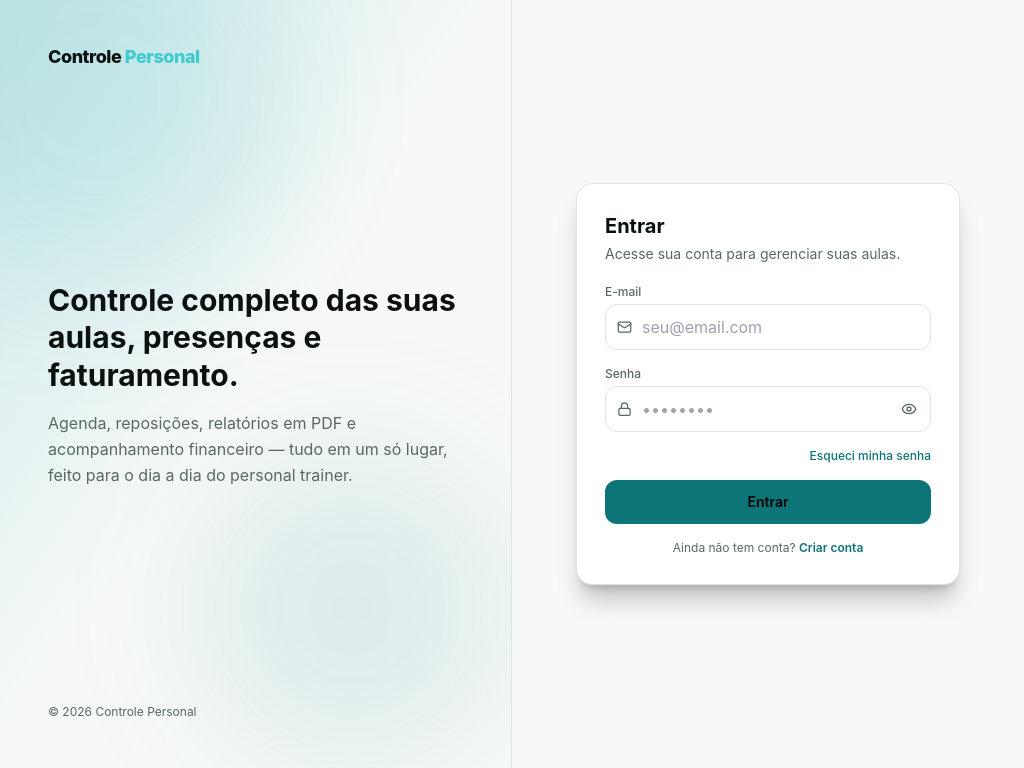
Test case: AuthView — login › exibe a mensagem traduzida por traduzErroAuth quando signInWithPassword retorna erro
Type "rodrigo@example.com" into the field labelled "E-mail" at [768, 327], box [605,304,931,350]
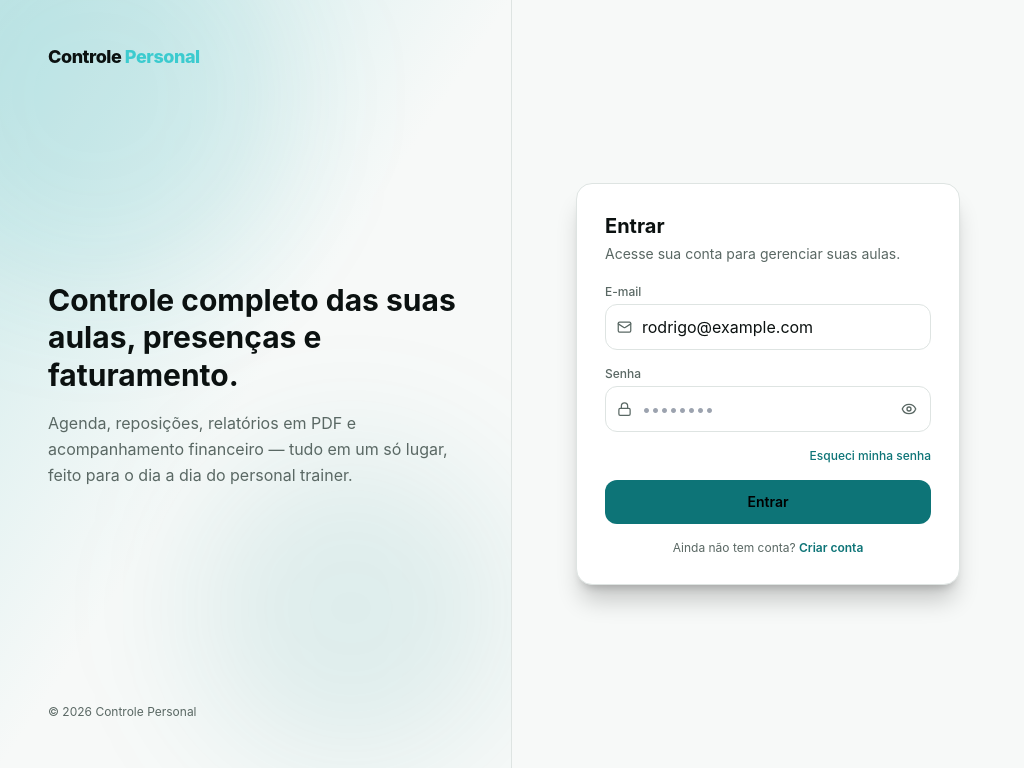
Type "senha123" into the password field labelled "Senha" at [768, 409], box [605,386,931,432]
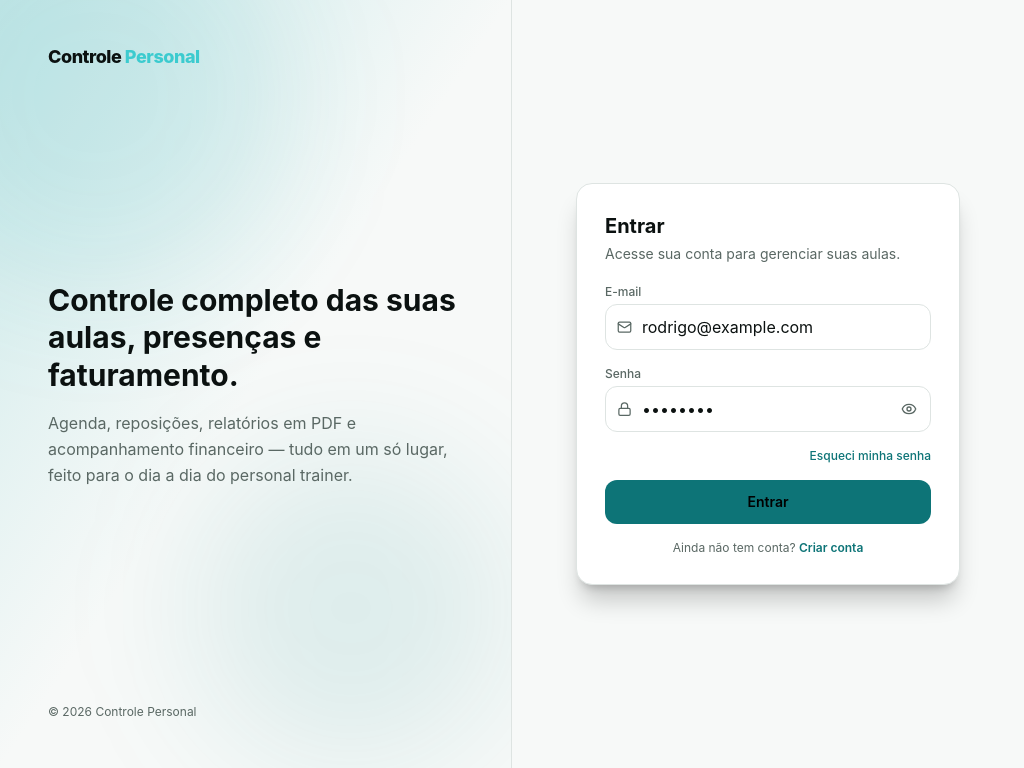
Click the button "Entrar" at [768, 502], box [605,480,931,524]
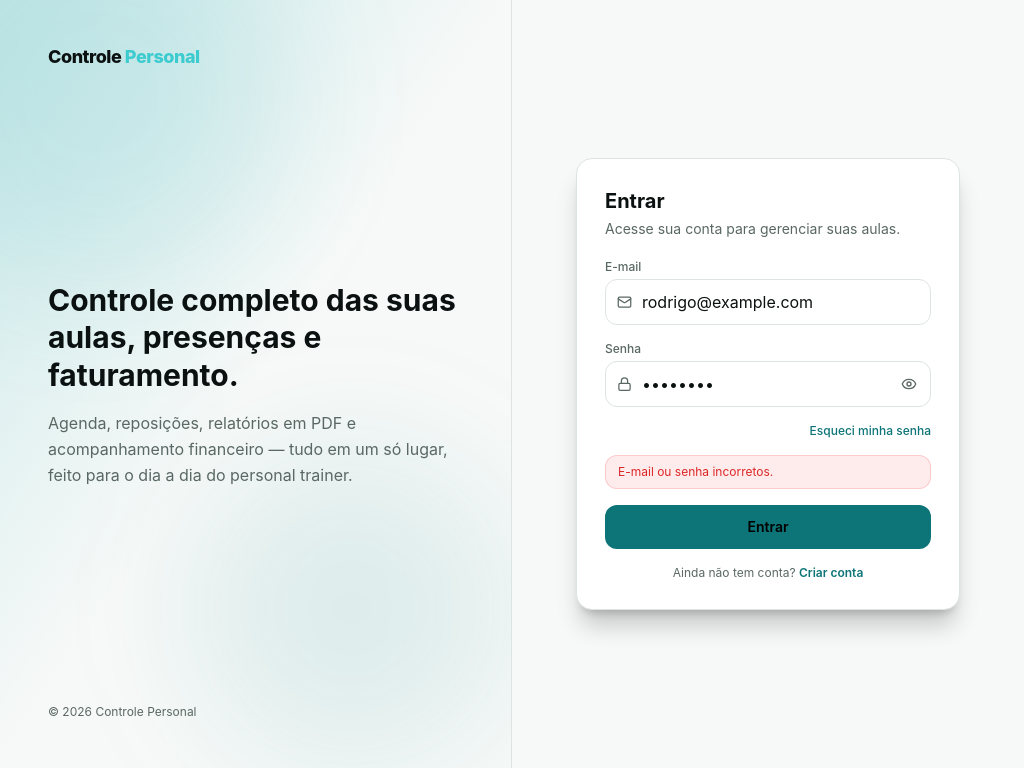
expect the text "E-mail ou senha incorretos." is shown: met, box [605,455,931,489]
